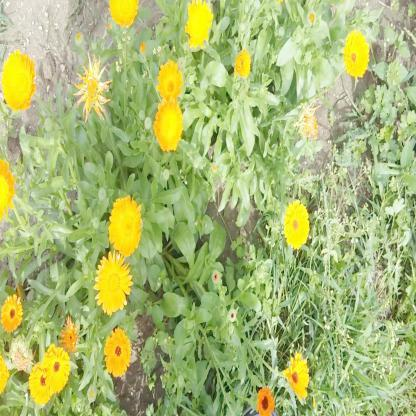marigold: (94, 250, 133, 316), (33, 344, 69, 402), (1, 51, 35, 110), (108, 195, 141, 254), (74, 56, 106, 110), (29, 354, 59, 404), (154, 95, 181, 150), (342, 28, 370, 79), (104, 328, 130, 374), (186, 2, 212, 48), (284, 202, 308, 249), (286, 352, 310, 394), (156, 64, 180, 100), (1, 294, 22, 334), (107, 0, 138, 25), (257, 388, 274, 414), (63, 323, 79, 350)
